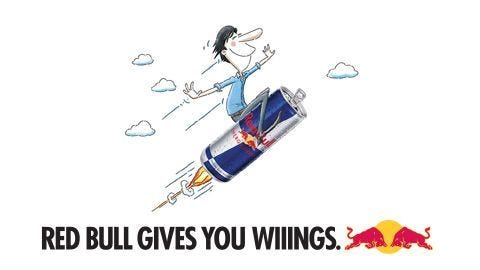Headline: (30, 217, 342, 270)
Product: (116, 24, 377, 213)
logo: (343, 212, 447, 263)
